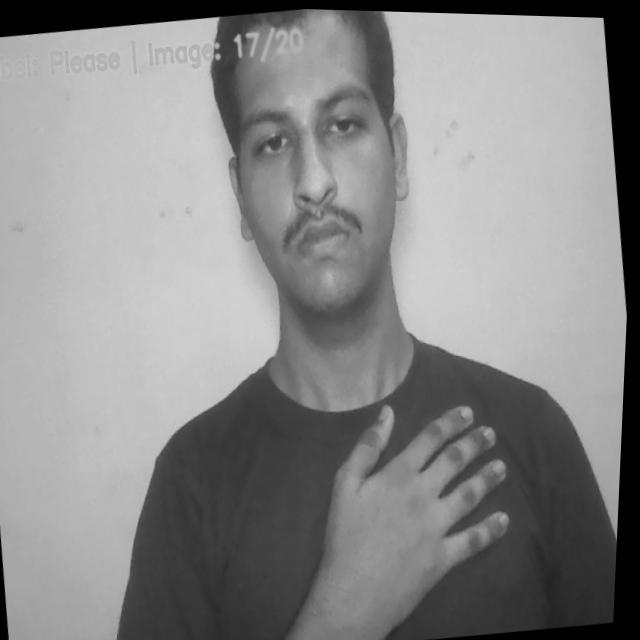Please: (286, 382, 534, 609)
